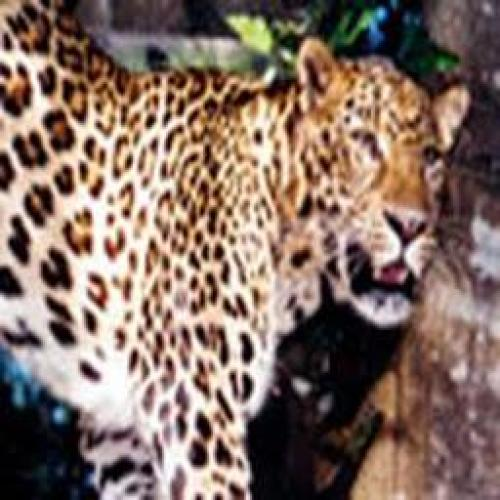amur_leopard-endangered: (0, 29, 473, 500)
